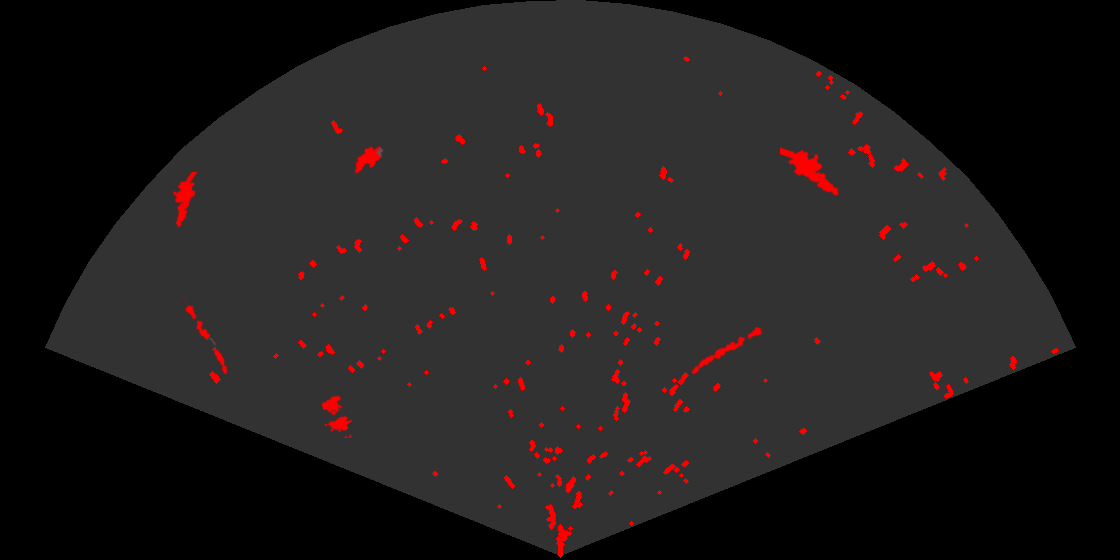AUV: (353, 145, 384, 175)
cage: (320, 394, 352, 438)
chain: (690, 323, 767, 376), (180, 296, 229, 376)
frogman: (780, 146, 841, 198), (171, 172, 199, 229)
